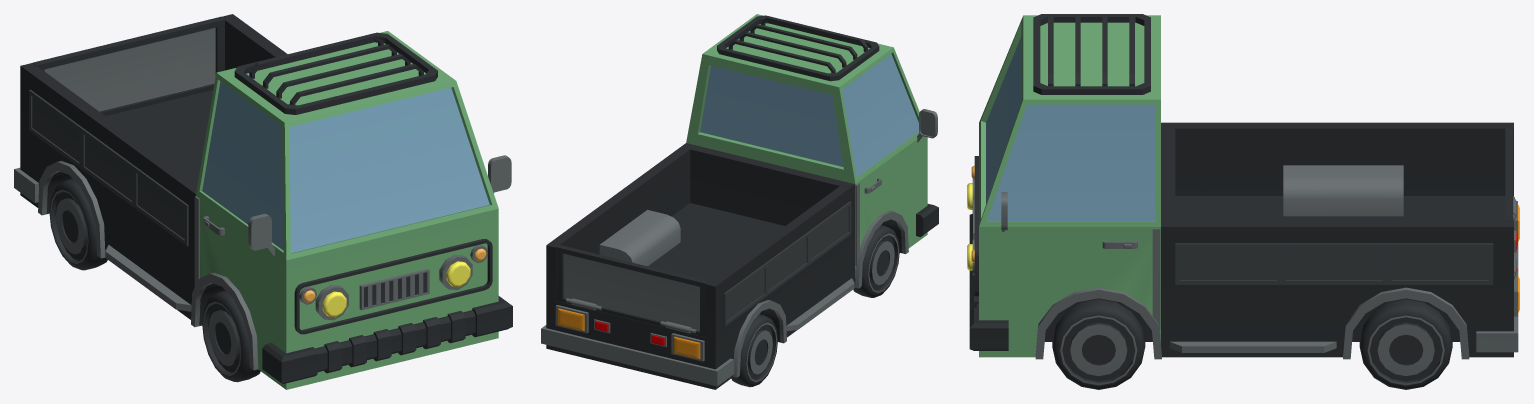
File: Car 07.fbx
3 renders of one model, left to right at view 1: azimuth 30°, elevation 25°; view 2: azimuth 150°, elevation 25°; view 3: azimuth 270°, elevation 25°, orthographic. The views are drawn at different scales.
Parts seen in each view (by area): view 1: Car 07; view 2: Car 07; view 3: Car 07.
Boxes of the visible parts, x1,y1,x2,y2 form: Car 07: [14, 14, 512, 389]; Car 07: [541, 14, 938, 389]; Car 07: [967, 14, 1519, 389].
Bounding box in the file's own units: 264 × 283 × 482.
1 material, 1 textured.
